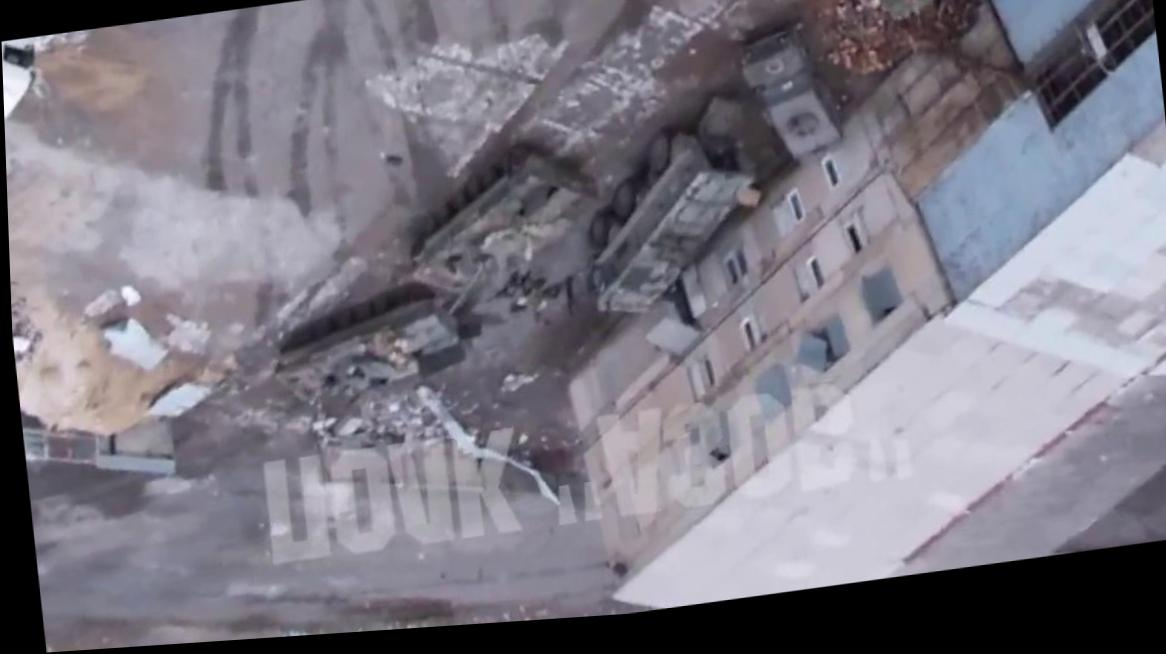armored_car: (738, 7, 840, 170)
tank: (390, 113, 621, 301), (262, 290, 469, 422)
truck: (558, 85, 772, 325), (840, 0, 1131, 41)
